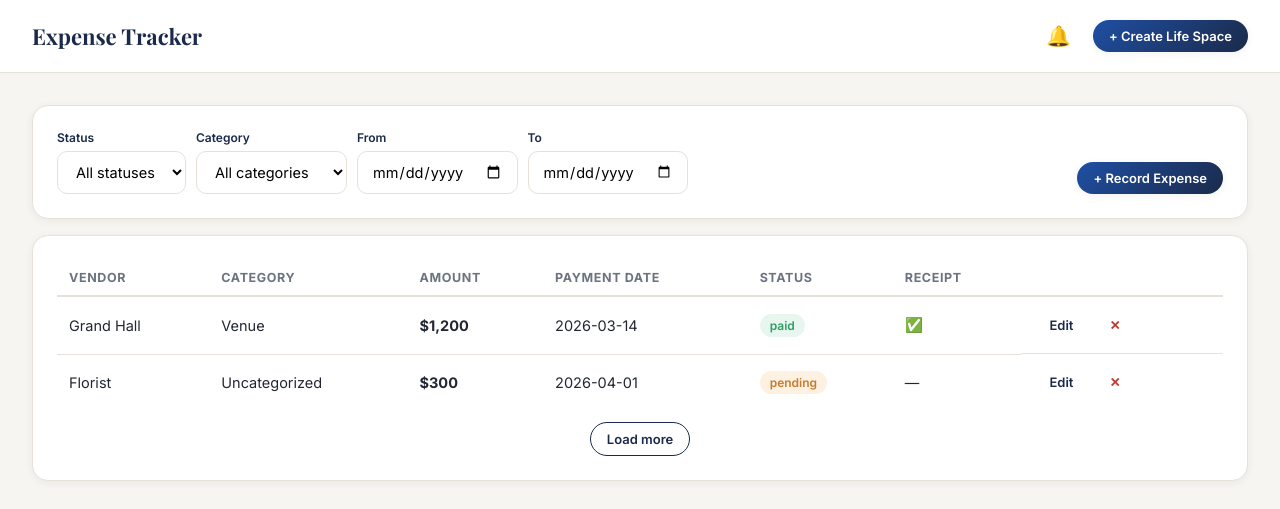
Test: ExpenseTracker — display › Load more appends the next page
Check: the text "Grand Hall" is shown, box [57,296,209,354]
Click the button "Load more". click: (640, 439)
box: [590,422,690,456]
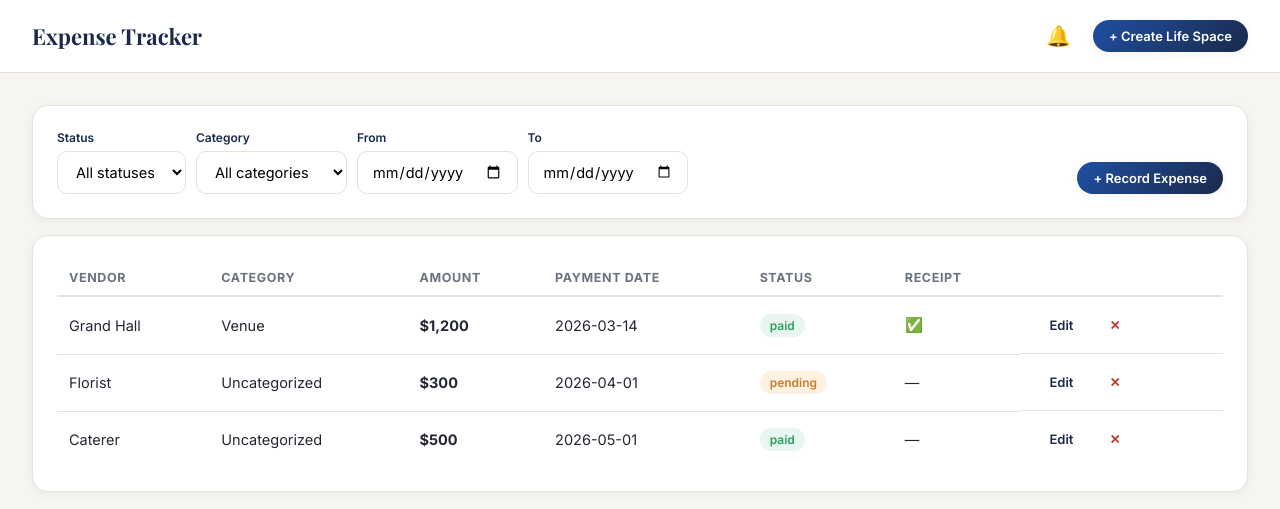
Check: the text "Grand Hall" is shown, box [57,296,209,354]
Check: the text "Caterer" is shown, box [57,411,209,467]
